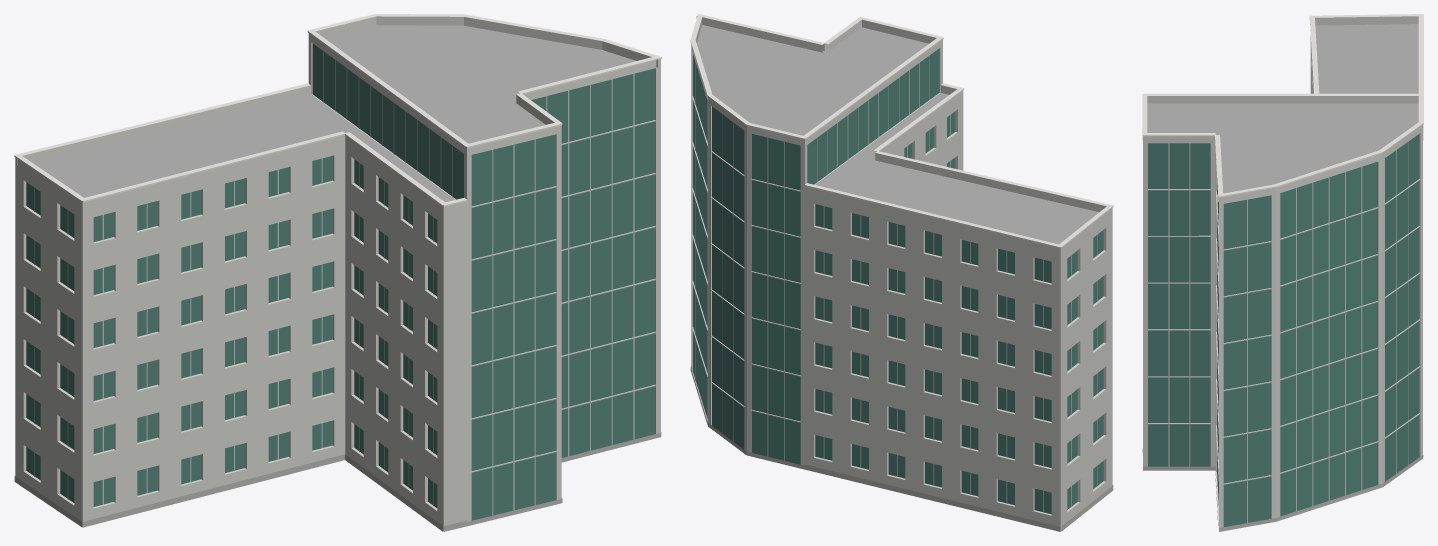
3 renders of one model, left to right at view 1: azimuth 30°, elevation 25°; view 2: azimuth 150°, elevation 25°; view 3: azimuth 270°, elevation 25°, orthographic. The views are drawn at different scales.
Visible parts, largest first — view 1: socialEdu__wall, socialEdu__glass, socialEdu__roof, socialEdu__parapet, socialEdu__frame, socialEdu__trim, socialEdu__base; view 2: socialEdu__wall, socialEdu__glass, socialEdu__roof, socialEdu__parapet, socialEdu__trim, socialEdu__frame, socialEdu__base; view 3: socialEdu__glass, socialEdu__roof, socialEdu__wall, socialEdu__frame, socialEdu__parapet, socialEdu__trim, socialEdu__base.
Boxes of the visible parts, <box> form: socialEdu__wall: <box>15,40,660,531</box>; socialEdu__glass: <box>26,43,655,520</box>; socialEdu__roof: <box>32,25,635,202</box>; socialEdu__parapet: <box>15,16,660,213</box>; socialEdu__frame: <box>34,51,655,515</box>; socialEdu__trim: <box>14,14,661,206</box>; socialEdu__base: <box>14,432,661,531</box>; socialEdu__wall: <box>691,45,1112,531</box>; socialEdu__glass: <box>693,48,1103,514</box>; socialEdu__roof: <box>697,25,1098,244</box>; socialEdu__parapet: <box>691,16,1112,254</box>; socialEdu__trim: <box>690,14,1113,248</box>; socialEdu__frame: <box>695,55,1097,512</box>; socialEdu__base: <box>690,366,1113,531</box>; socialEdu__glass: <box>1148,134,1419,526</box>; socialEdu__roof: <box>1147,24,1418,193</box>; socialEdu__wall: <box>1143,37,1422,531</box>; socialEdu__frame: <box>1148,142,1419,522</box>; socialEdu__parapet: <box>1143,16,1422,203</box>; socialEdu__trim: <box>1142,14,1423,197</box>; socialEdu__base: <box>1142,449,1423,531</box>.
Size of the model in its own units: 37.84 by 25.8 by 19.63.
